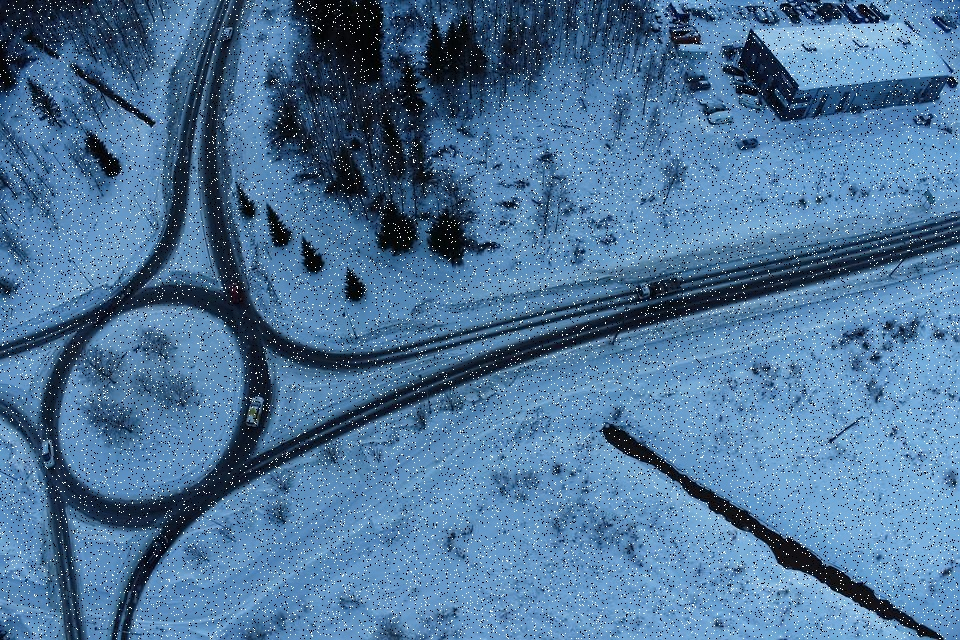roundabout: (4, 237, 313, 572)
